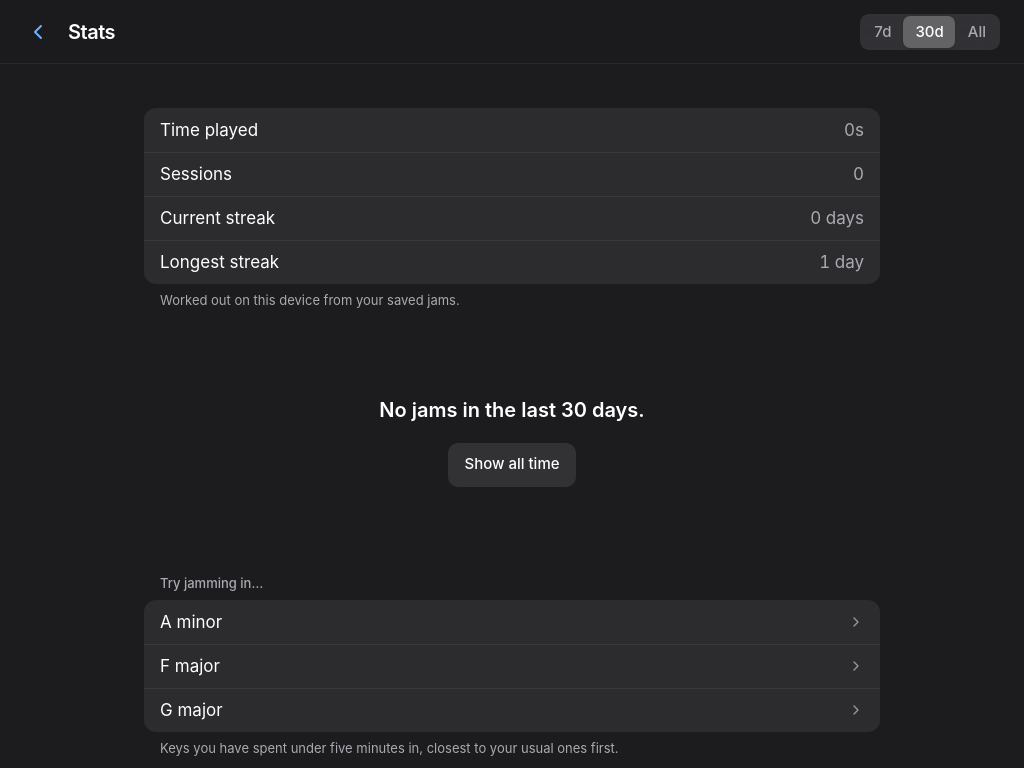
Scenario: StatsScreen › offers all time when the range is empty
Expected: the heading "No jams in the last 30 days." is shown, [379,398,645,422]
Click the button "Show all time" at [512, 464], box [448,442,576,486]
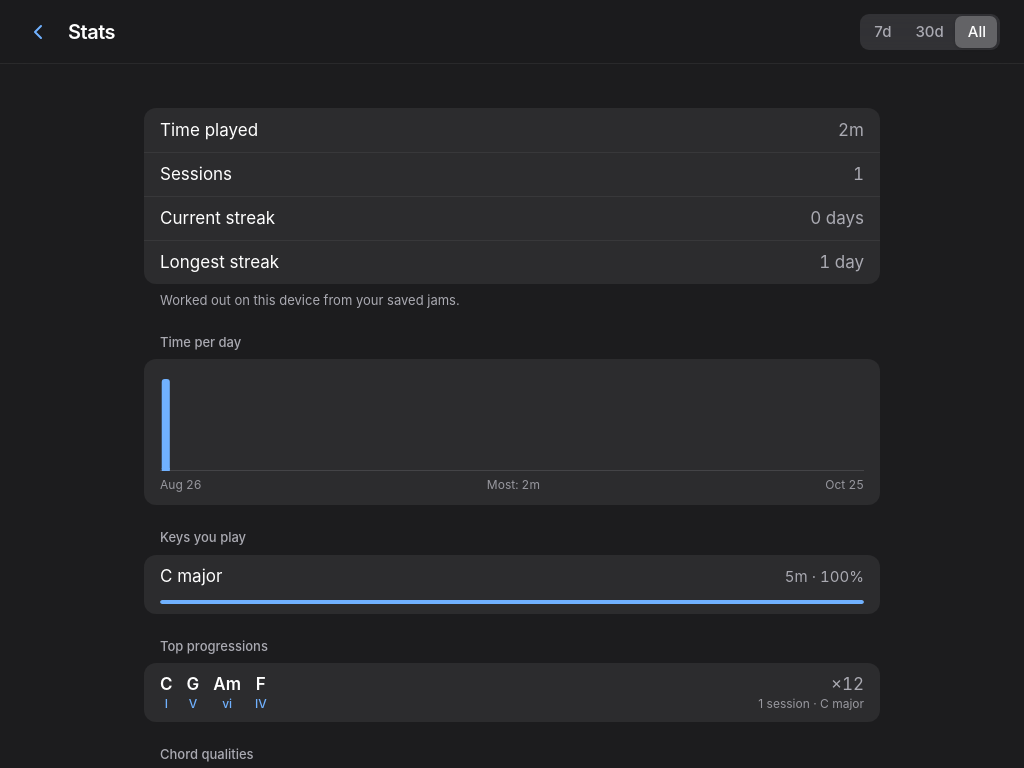
Now the number of elements with test id "stats-key" is 1, box [144,555,880,614]
